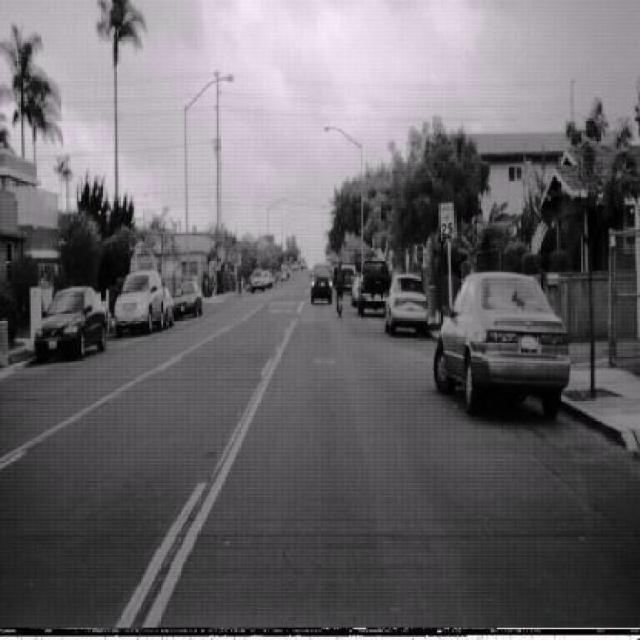speedLimit25: (440, 200, 458, 243)
